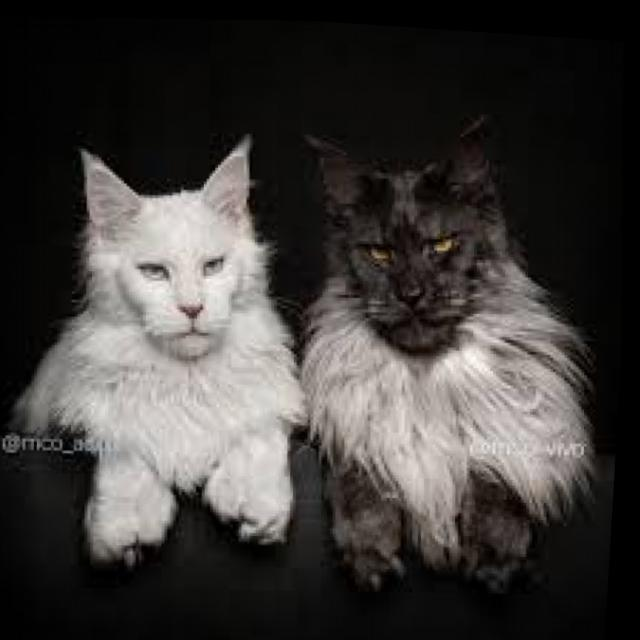cat: (272, 84, 602, 593), (13, 114, 349, 568)
